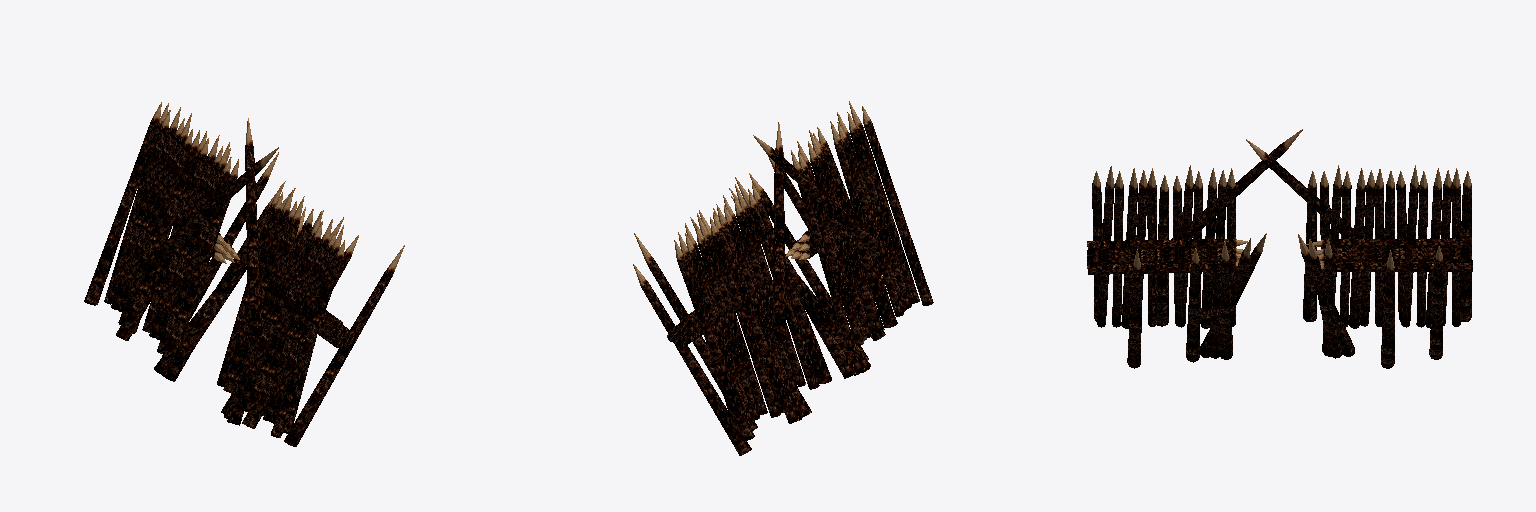
3 views of the same model, side by side, from view 1: azimuth 30°, elevation 25°; view 2: azimuth 150°, elevation 25°; view 3: azimuth 270°, elevation 25° (orthographic).
Parts seen in each view (by area): view 1: Plane; view 2: Plane; view 3: Plane.
Boxes of the visible parts, <box> form: Plane: <box>84,102,404,446</box>; Plane: <box>633,101,933,455</box>; Plane: <box>1087,129,1472,368</box>.
Bounding box in the file's own units: 0.458 × 0.7191 × 0.9739.
1 materials, 1 textured.